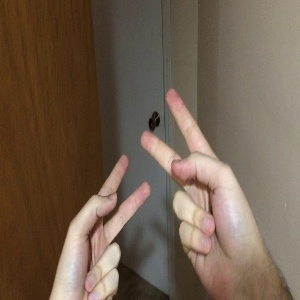hand: (141, 87, 259, 295), (52, 154, 151, 300)
